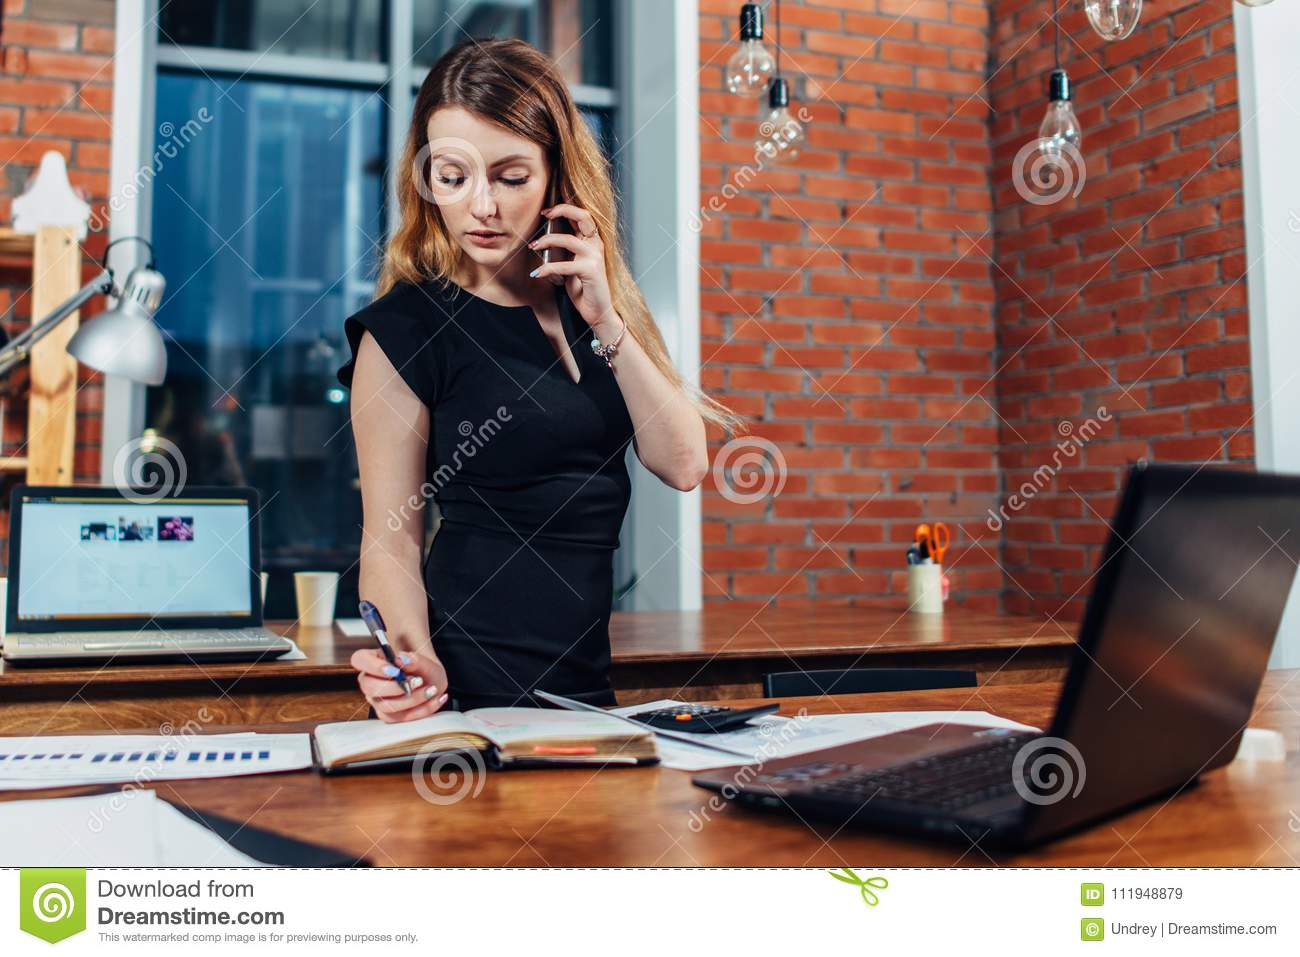phone: (535, 157, 572, 294)
talk: (430, 143, 617, 333)
